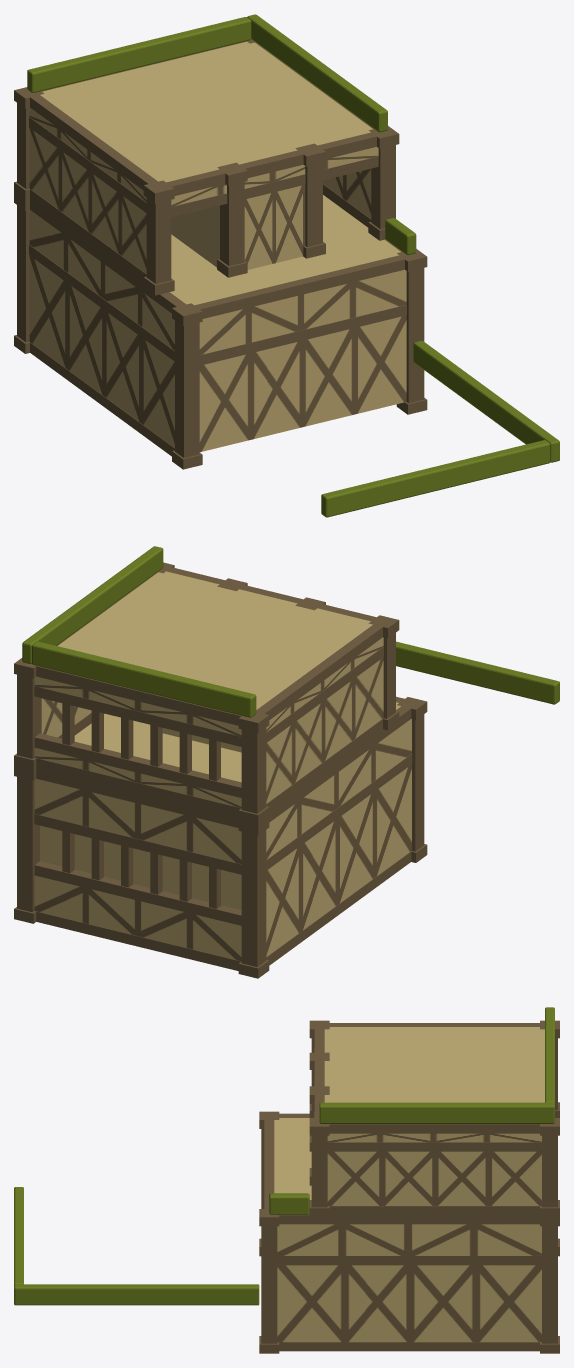
Rendered from House2.gltf.
3 renders of one model, top to bottom at view 1: azimuth 30°, elevation 25°; view 2: azimuth 150°, elevation 25°; view 3: azimuth 270°, elevation 25°, orthographic. The views are drawn at different scales.
Parts seen in each view (by area): view 1: Cube.003; view 2: Cube.003; view 3: Cube.003.
Boxes of the visible parts, x1,y1,x2,y2 form: Cube.003: [14, 14, 559, 517]; Cube.003: [14, 546, 559, 978]; Cube.003: [14, 1007, 559, 1353].
Bounding box in the file's own units: 5 × 5.4 × 10.9.
1 material, 1 textured.
